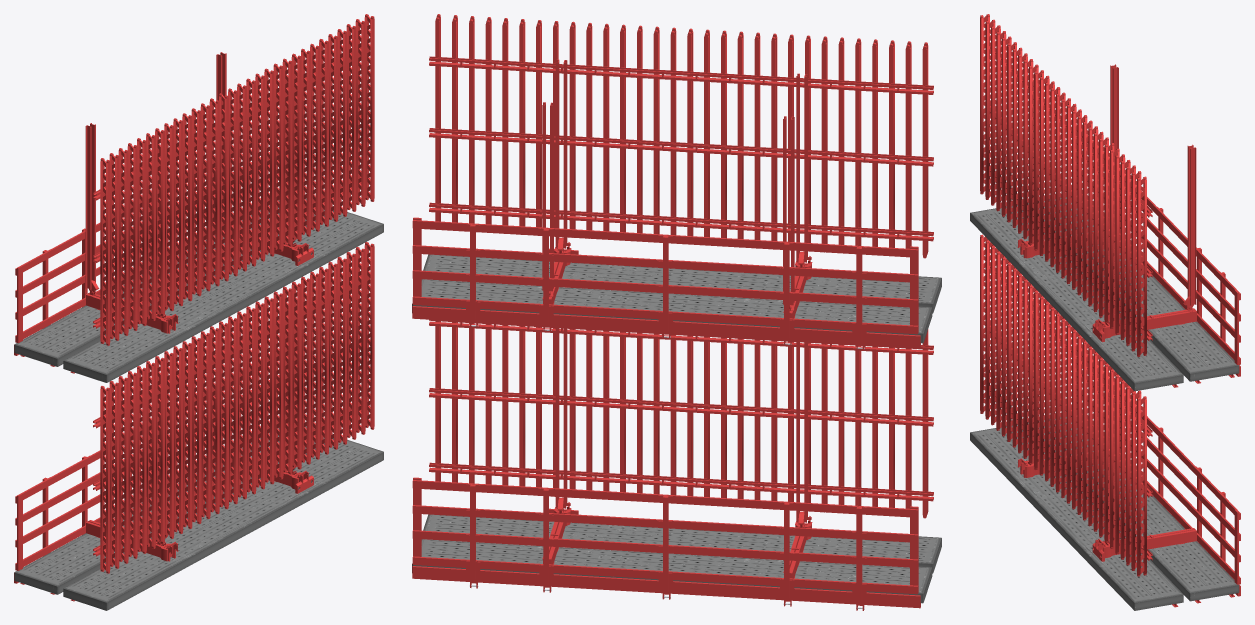
File: ACS_Baked2.fbx
3 views of the same model, side by side, from view 1: azimuth 30°, elevation 25°; view 2: azimuth 150°, elevation 25°; view 3: azimuth 270°, elevation 25° (orthographic). The views are drawn at different scales.
Visible parts, largest first — view 1: Baked Mesh 4, Baked Mesh 5, Baked Mesh; view 2: Baked Mesh 4, Baked Mesh, Baked Mesh 5; view 3: Baked Mesh 4, Baked Mesh 5, Baked Mesh.
Part boxes in pixels (x1,y1,x2,y2): Baked Mesh 4: (15, 14, 374, 601); Baked Mesh 5: (14, 198, 383, 610); Baked Mesh: (14, 47, 369, 583); Baked Mesh 4: (412, 14, 928, 594); Baked Mesh: (412, 56, 933, 610); Baked Mesh 5: (412, 254, 941, 603); Baked Mesh 4: (980, 14, 1240, 607); Baked Mesh 5: (970, 197, 1239, 610); Baked Mesh: (990, 47, 1240, 596).
Bounding box in the file's own units: 570 × 618 × 346.
Materials: 5 (1 with a texture image).
